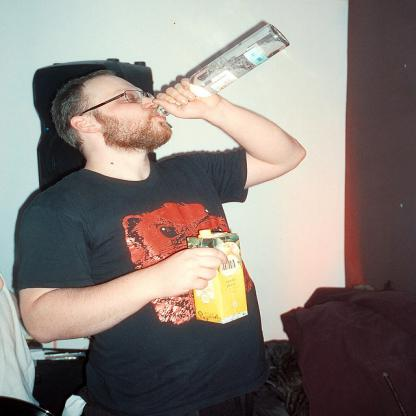drinking: (158, 24, 290, 117)
